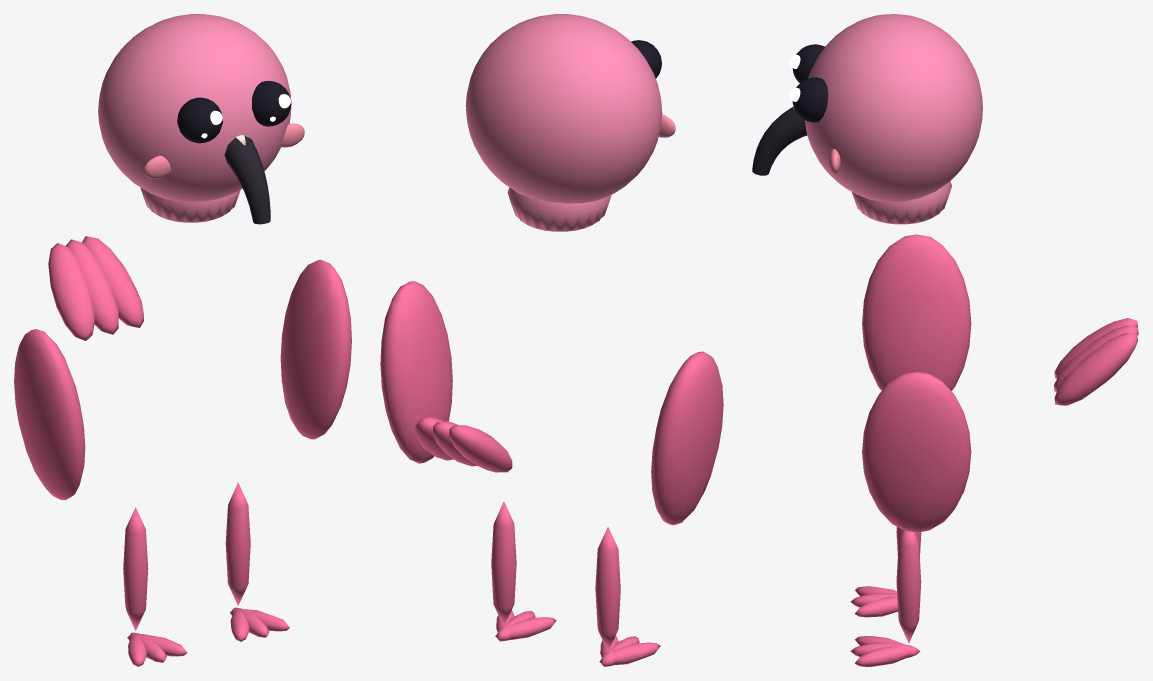
File: tb_dyr_flamingo.glb
3 renders of one model, left to right at view 1: azimuth 30°, elevation 25°; view 2: azimuth 150°, elevation 25°; view 3: azimuth 270°, elevation 25°, orthographic. The views are drawn at different scales.
Visible parts, largest first — view 1: hode, vinge_h, vinge_v, hale, bein_vf, bein_hf; view 2: hode, vinge_h, vinge_v, bein_hf, bein_vf, hale; view 3: hode, vinge_h, vinge_v, hale, bein_hf, bein_vf.
Part boxes in pixels (x1,y1,x2,y2): hode: (98, 14, 304, 224); vinge_h: (280, 259, 351, 439); vinge_v: (14, 329, 85, 500); hale: (48, 236, 143, 340); bein_vf: (123, 507, 187, 666); bein_hf: (225, 482, 289, 641); hode: (465, 14, 675, 231); vinge_h: (380, 281, 452, 463); vinge_v: (651, 351, 723, 525); bein_hf: (491, 501, 556, 641); bein_vf: (595, 527, 660, 666); hale: (415, 417, 512, 472); hode: (752, 14, 982, 224); vinge_h: (862, 372, 971, 532); vinge_v: (862, 234, 971, 390); hale: (1054, 318, 1138, 405); bein_hf: (850, 530, 921, 666); bein_vf: (850, 527, 921, 617).
Size of the model in its own units: 0.9133 by 1.73 by 0.9899.
